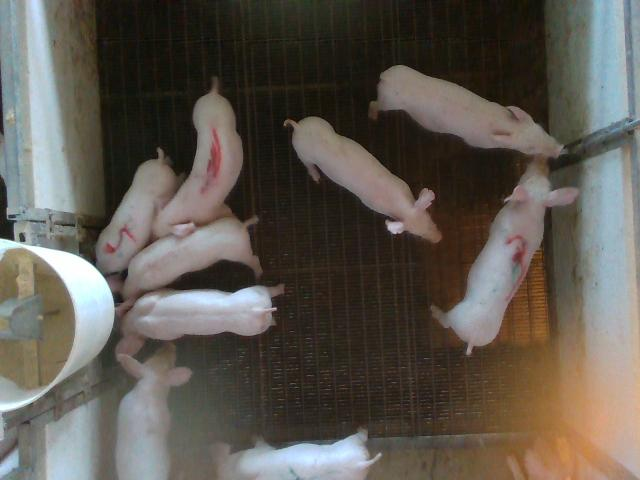pig-1: (154, 78, 242, 237)
pig-3: (431, 158, 579, 354)
pig-5: (95, 149, 179, 275)
